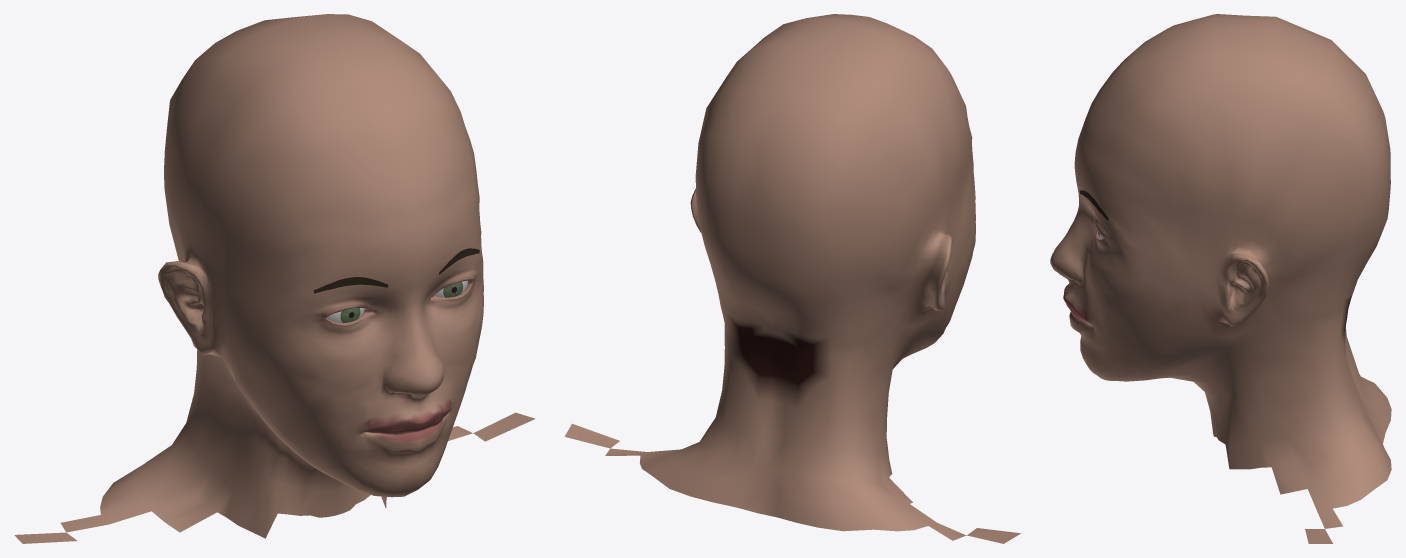
The model's file is review-head-high.glb.
The picture shows the model from 3 angles, left to right: view 1: azimuth 30°, elevation 25°; view 2: azimuth 150°, elevation 25°; view 3: azimuth 270°, elevation 25°; orthographic projection. The views are drawn at different scales.
Parts seen in each view (by area): view 1: Review anatomical player head high with source UV; view 2: Review anatomical player head high with source UV; view 3: Review anatomical player head high with source UV.
Boxes of the visible parts, x1,y1,x2,y2 form: Review anatomical player head high with source UV: (14,14,535,543); Review anatomical player head high with source UV: (564,14,1020,543); Review anatomical player head high with source UV: (1050,14,1391,543).
Size of the model in its own units: 0.369 by 0.3373 by 0.2493.
